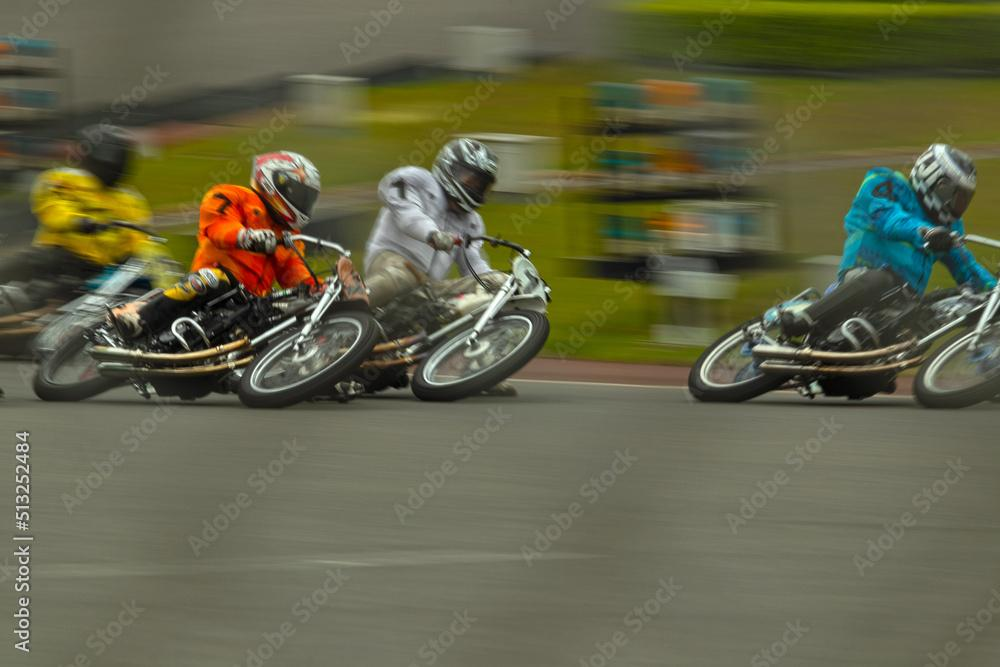helmet: (907, 141, 979, 227), (249, 149, 322, 232), (431, 137, 500, 216), (71, 123, 144, 191)
